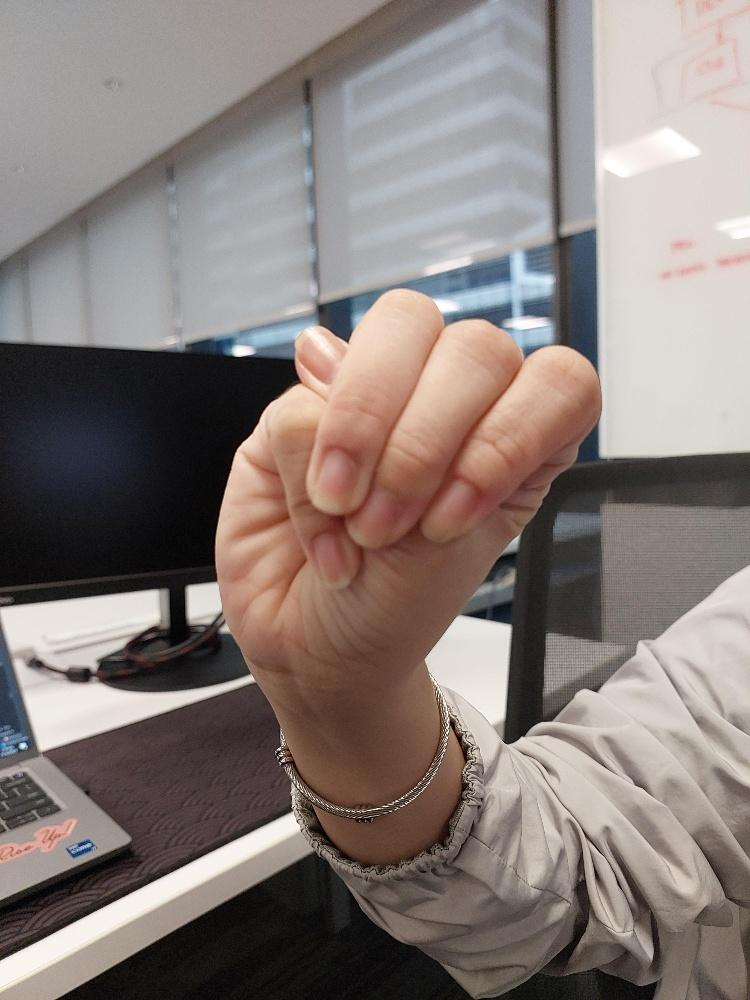m: (213, 288, 601, 661)
